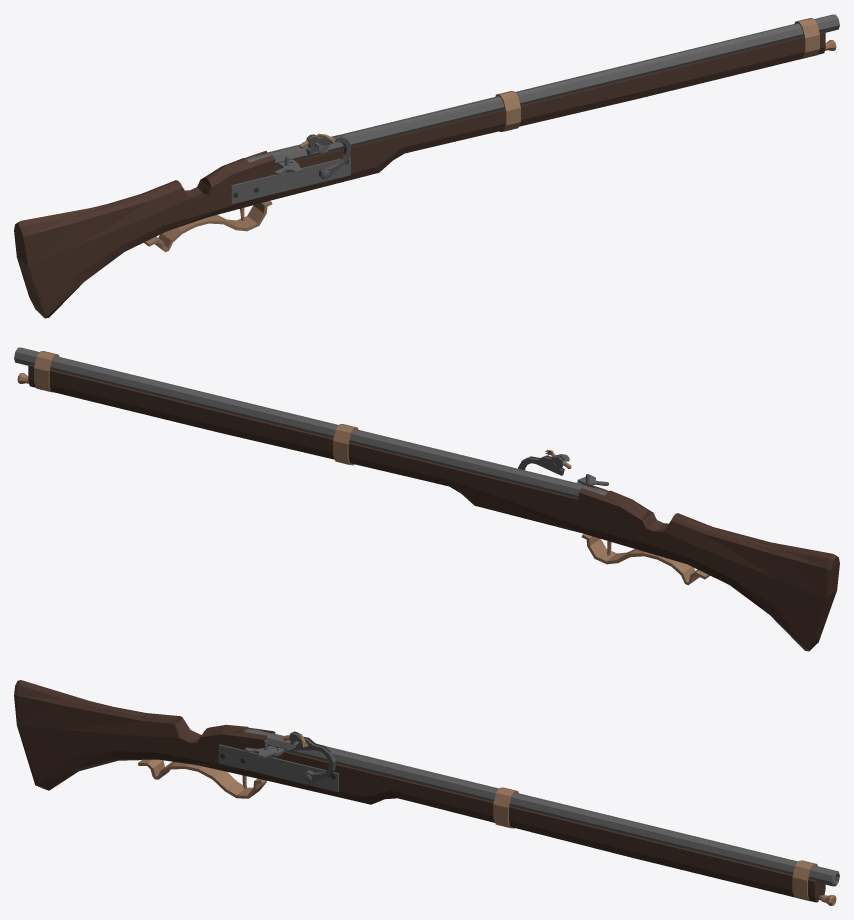
The model's file is Musket_LOD1.fbx.
3 renders of one model, top to bottom at view 1: azimuth 30°, elevation 25°; view 2: azimuth 150°, elevation 25°; view 3: azimuth 330°, elevation 25°, orthographic.
Visible parts, largest first — view 1: CP_Renaissance_Matchlock_Base, CP_Renaissance_Matchlock_Hammer; view 2: CP_Renaissance_Matchlock_Base, CP_Renaissance_Matchlock_Hammer; view 3: CP_Renaissance_Matchlock_Base, CP_Renaissance_Matchlock_Hammer.
Part boxes in pixels (left/top/right/bottom): CP_Renaissance_Matchlock_Base: left=14, top=14, right=839, bottom=318; CP_Renaissance_Matchlock_Hammer: left=299, top=133, right=351, bottom=179; CP_Renaissance_Matchlock_Base: left=14, top=347, right=839, bottom=651; CP_Renaissance_Matchlock_Hammer: left=518, top=449, right=571, bottom=475; CP_Renaissance_Matchlock_Base: left=14, top=680, right=839, bottom=905; CP_Renaissance_Matchlock_Hammer: left=282, top=731, right=335, bottom=783.
Size of the model in its own units: 770 by 114 by 43.41.
